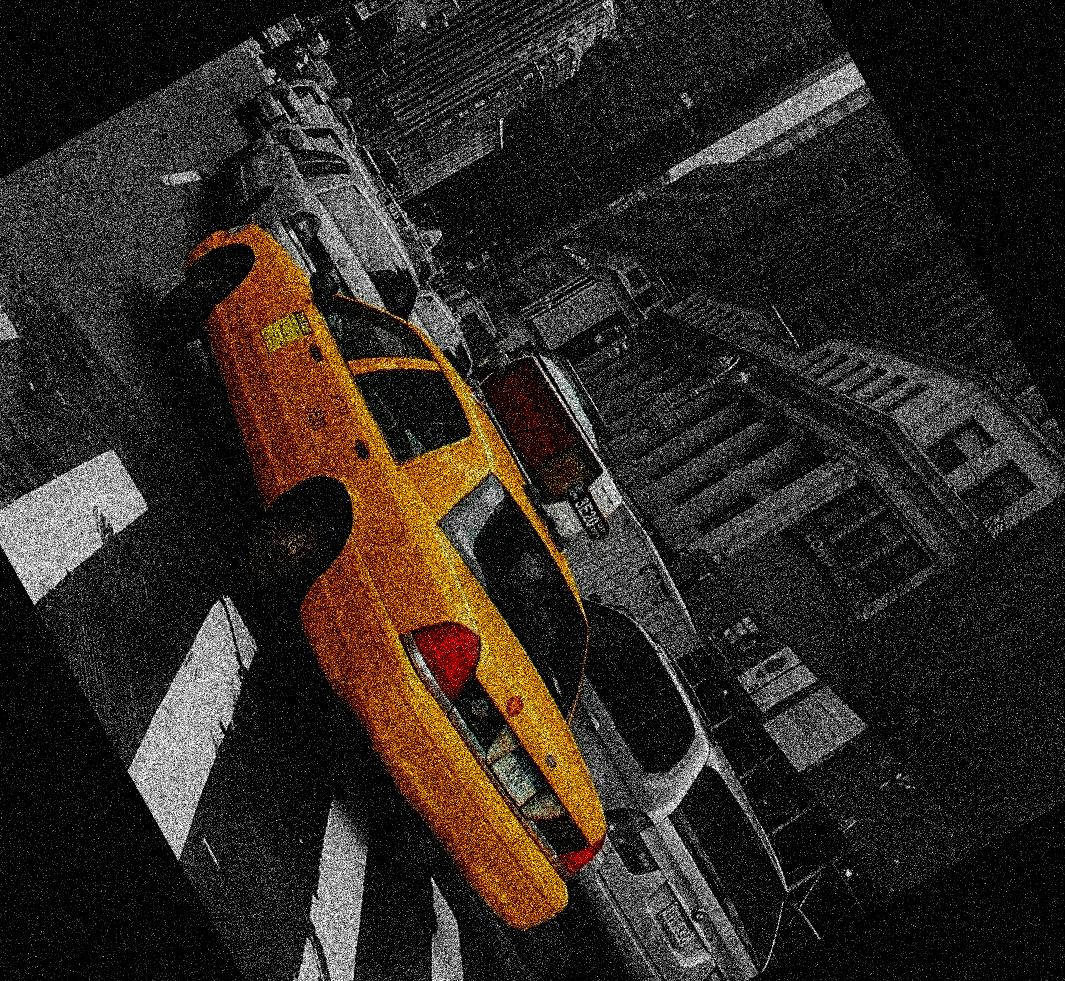taxi: (189, 207, 582, 920)
